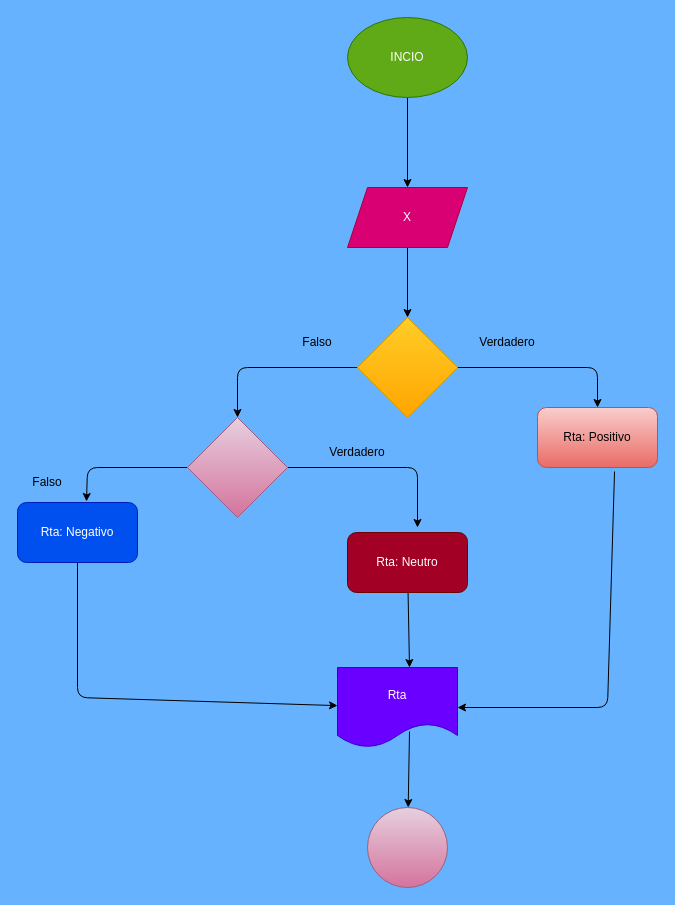
Some shapes in this 675 by 905 pixel diagram are drawn without their labels. The centre of each missing label's shape, as x and y in pixels:
"FIN" goes at pixel 407 847.
"x==0" goes at pixel 237 467.
"X>0" goes at pixel 407 367.
